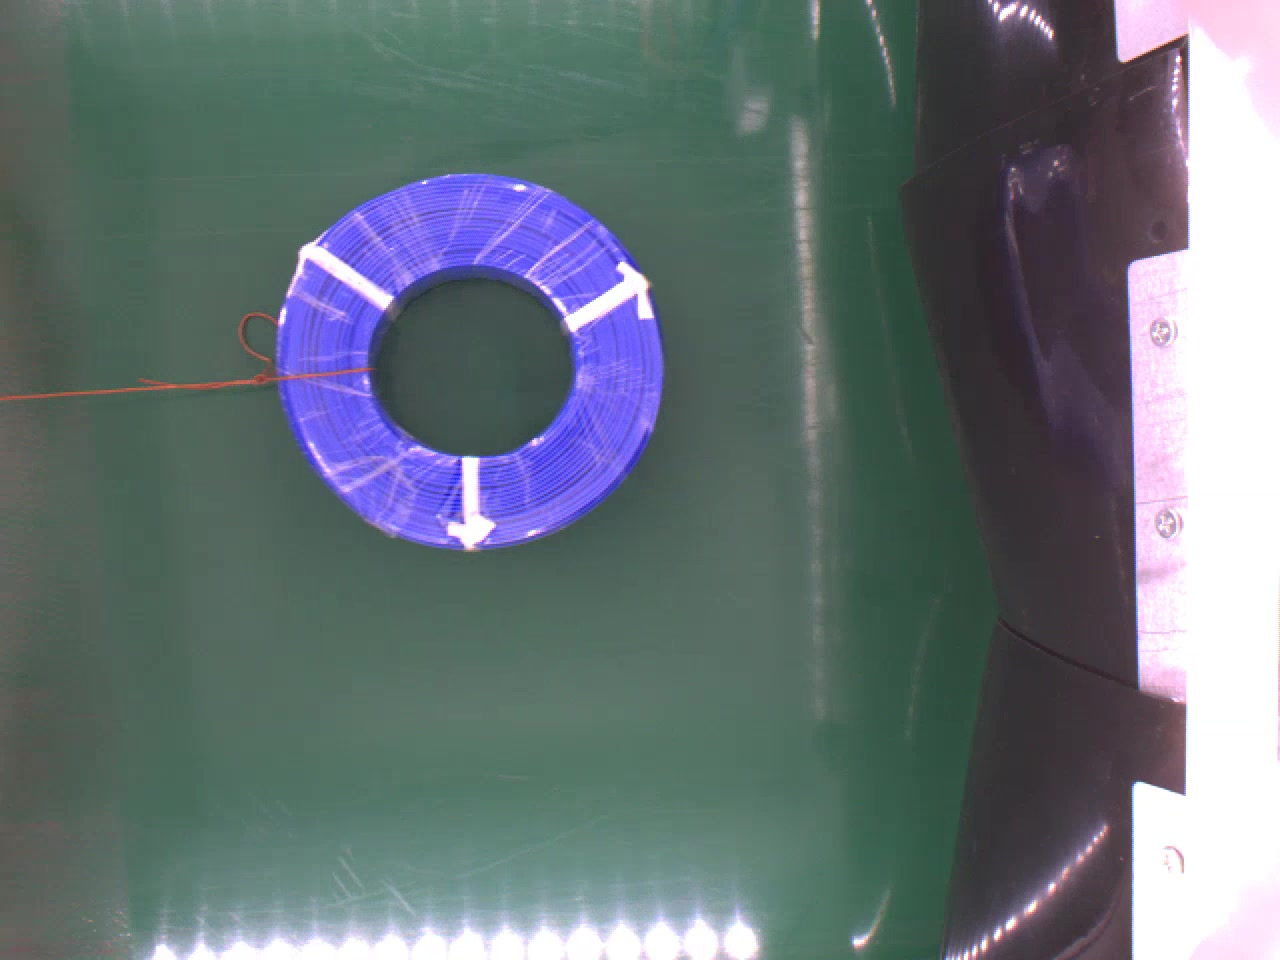blue: (273, 169, 664, 546)
